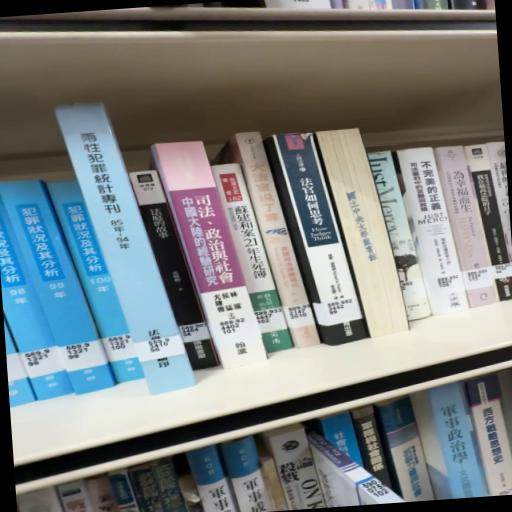backward: (327, 127, 408, 337)
book: (55, 97, 202, 401), (150, 135, 270, 373), (269, 125, 374, 348), (212, 134, 316, 355), (136, 161, 217, 374), (375, 396, 438, 505)
